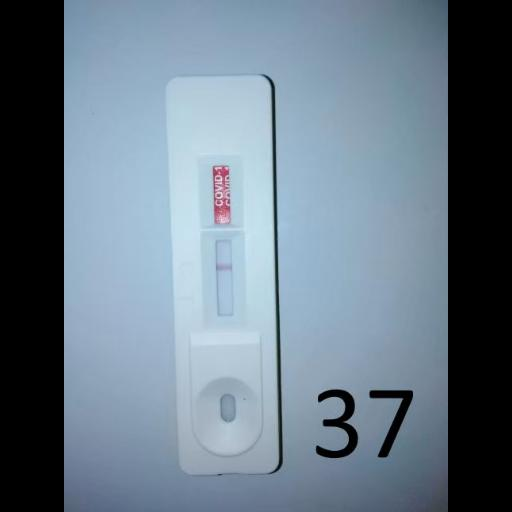Neg: (164, 75, 278, 475)
